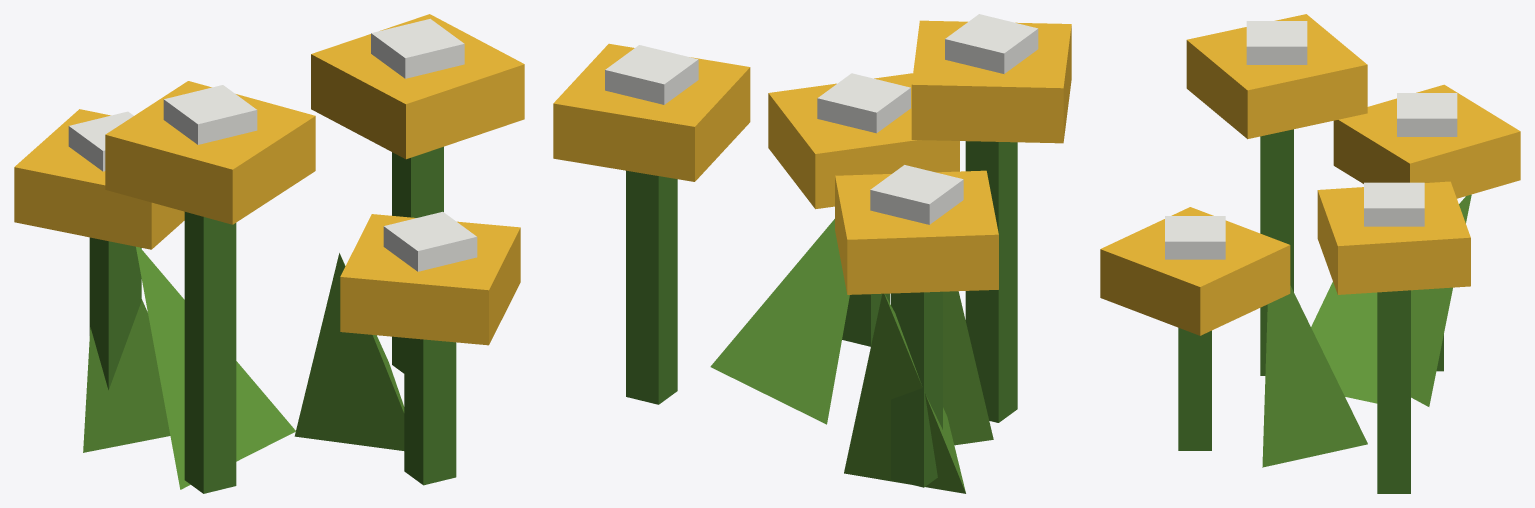
File: D_MedFlowersYellow.fbx
3 views of the same model, side by side, from view 1: azimuth 30°, elevation 25°; view 2: azimuth 150°, elevation 25°; view 3: azimuth 270°, elevation 25° (orthographic). The views are drawn at different scales.
Parts seen in each view (by area): view 1: M_FlowersYellow; view 2: M_FlowersYellow; view 3: M_FlowersYellow.
Boxes of the visible parts, x1,y1,x2,y2 form: M_FlowersYellow: (14, 14, 524, 493); M_FlowersYellow: (553, 14, 1071, 493); M_FlowersYellow: (1100, 14, 1520, 493).
Bounding box in the file's own units: 0.3419 × 0.2843 × 0.3125.
Materials: 1 (1 with a texture image).
